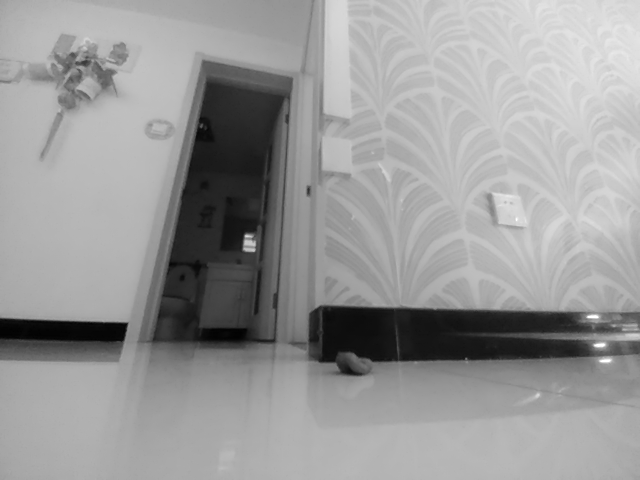pet feces: (337, 351, 375, 377)
